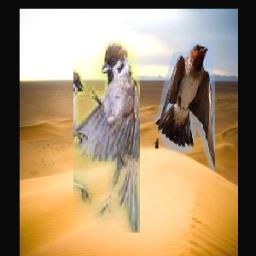Sparrow: (73, 41, 140, 233)
Swallow: (155, 43, 215, 171)
